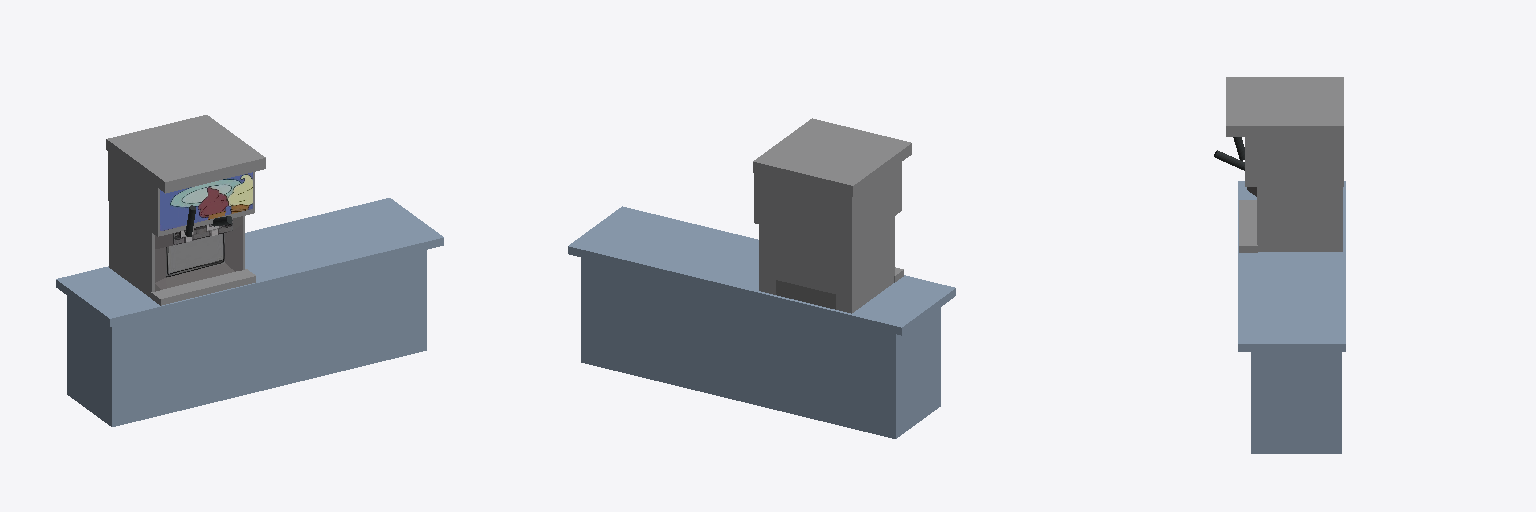
3 renders of one model, left to right at view 1: azimuth 30°, elevation 25°; view 2: azimuth 150°, elevation 25°; view 3: azimuth 270°, elevation 25°, orthographic.
Visible parts, largest first — view 1: pCube7; view 2: pCube7; view 3: pCube7.
Part boxes in pixels (x1,y1,x2,y2): pCube7: (56, 115, 443, 426); pCube7: (568, 118, 955, 438); pCube7: (1214, 77, 1345, 453).
Size of the model in its own units: 5.21 by 3.64 by 1.79.
Materials: 7 (6 with a texture image).